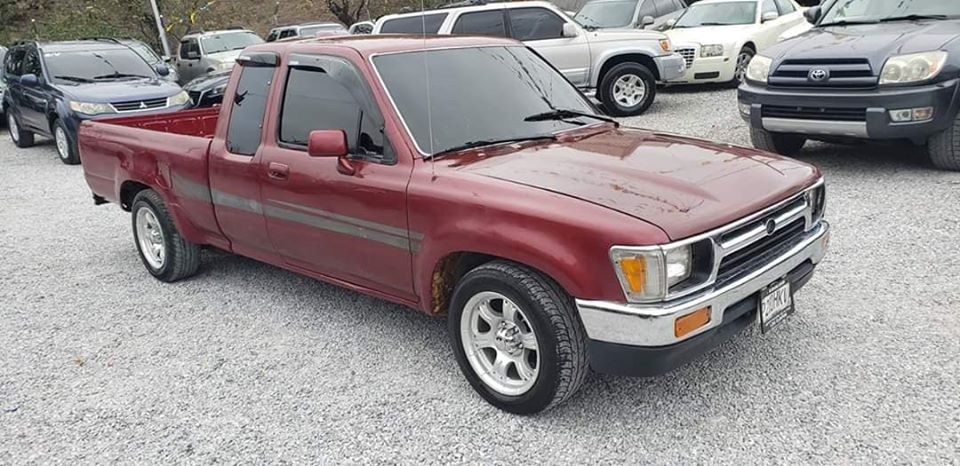pickup: (86, 37, 827, 418)
